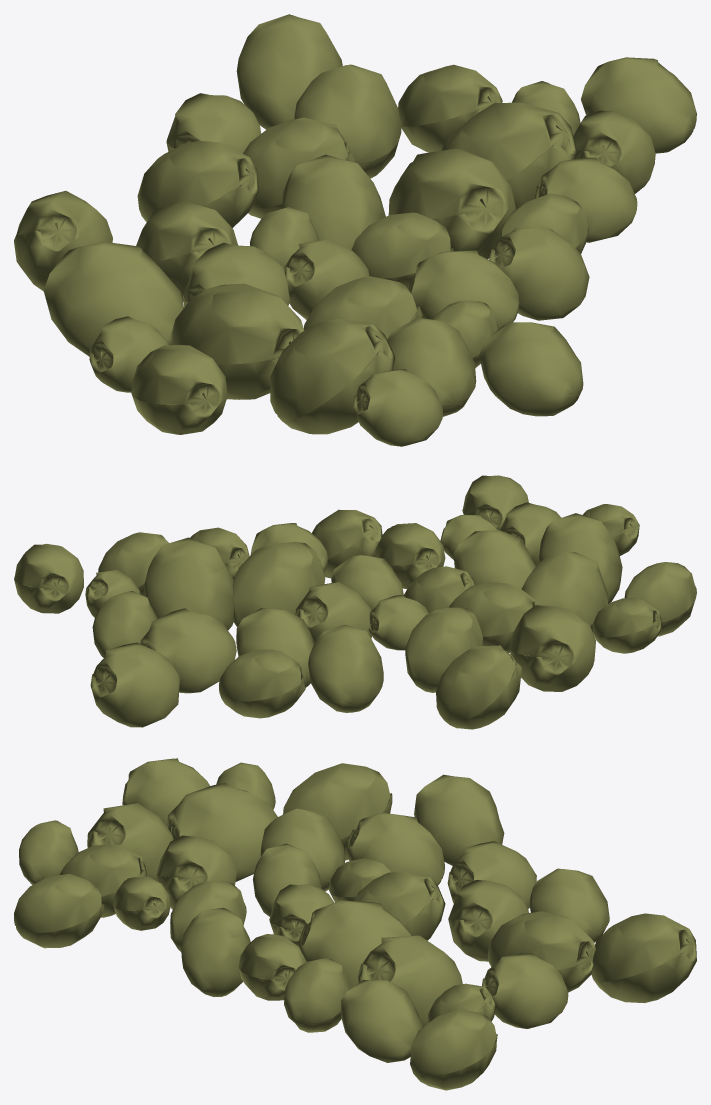
File: yeast_bud.fbx
3 renders of one model, top to bottom at view 1: azimuth 30°, elevation 25°; view 2: azimuth 150°, elevation 25°; view 3: azimuth 270°, elevation 25°, orthographic. The views are drawn at different scales.
Parts seen in each view (by area): view 1: yeast; view 2: yeast; view 3: yeast.
Boxes of the visible parts, x1,y1,x2,y2 form: yeast: (14,14,696,446); yeast: (14,475,696,729); yeast: (14,758,696,1090).
Bounding box in the file's own units: 73.43 × 11.97 × 73.9.
